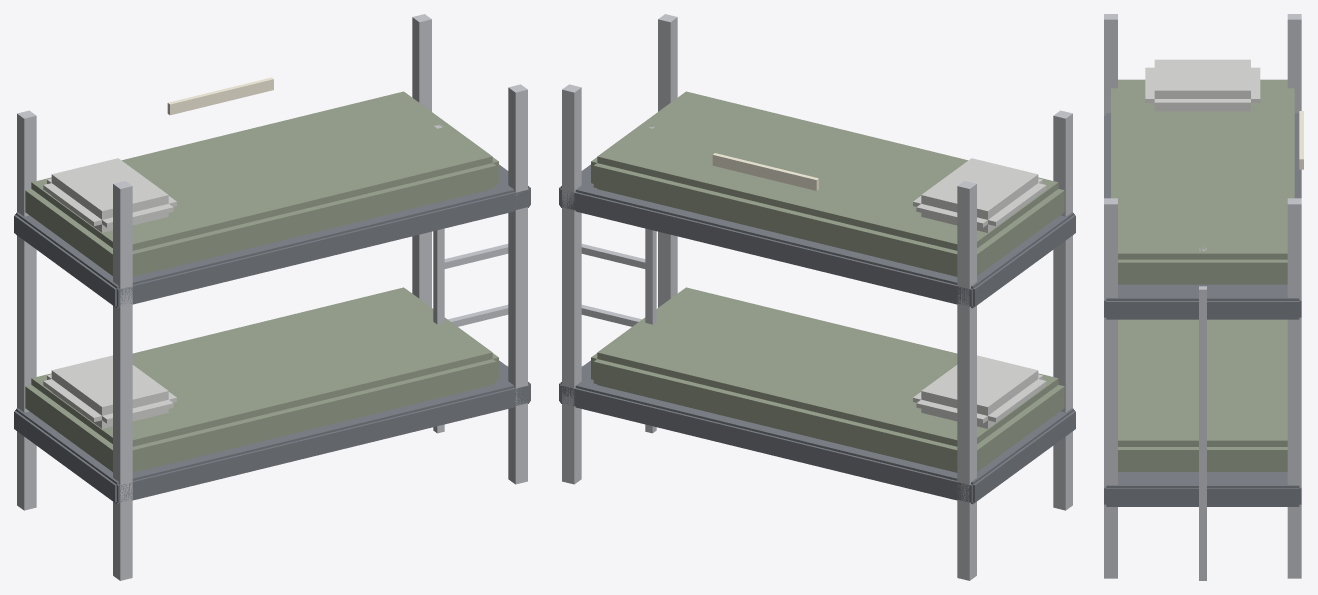
Rendered from base_bunk.fbx.
3 views of the same model, side by side, from view 1: azimuth 30°, elevation 25°; view 2: azimuth 150°, elevation 25°; view 3: azimuth 270°, elevation 25° (orthographic). The views are drawn at different scales.
Visible parts, largest first — view 1: base_bunk; view 2: base_bunk; view 3: base_bunk.
Part boxes in pixels (x1=…): base_bunk: x1=14, y1=14, x2=530, y2=580; base_bunk: x1=559, y1=14, x2=1075, y2=580; base_bunk: x1=1104, y1=14, x2=1303, y2=580.
Bounding box in the file's own units: 2.22 × 1.8 × 0.87.
